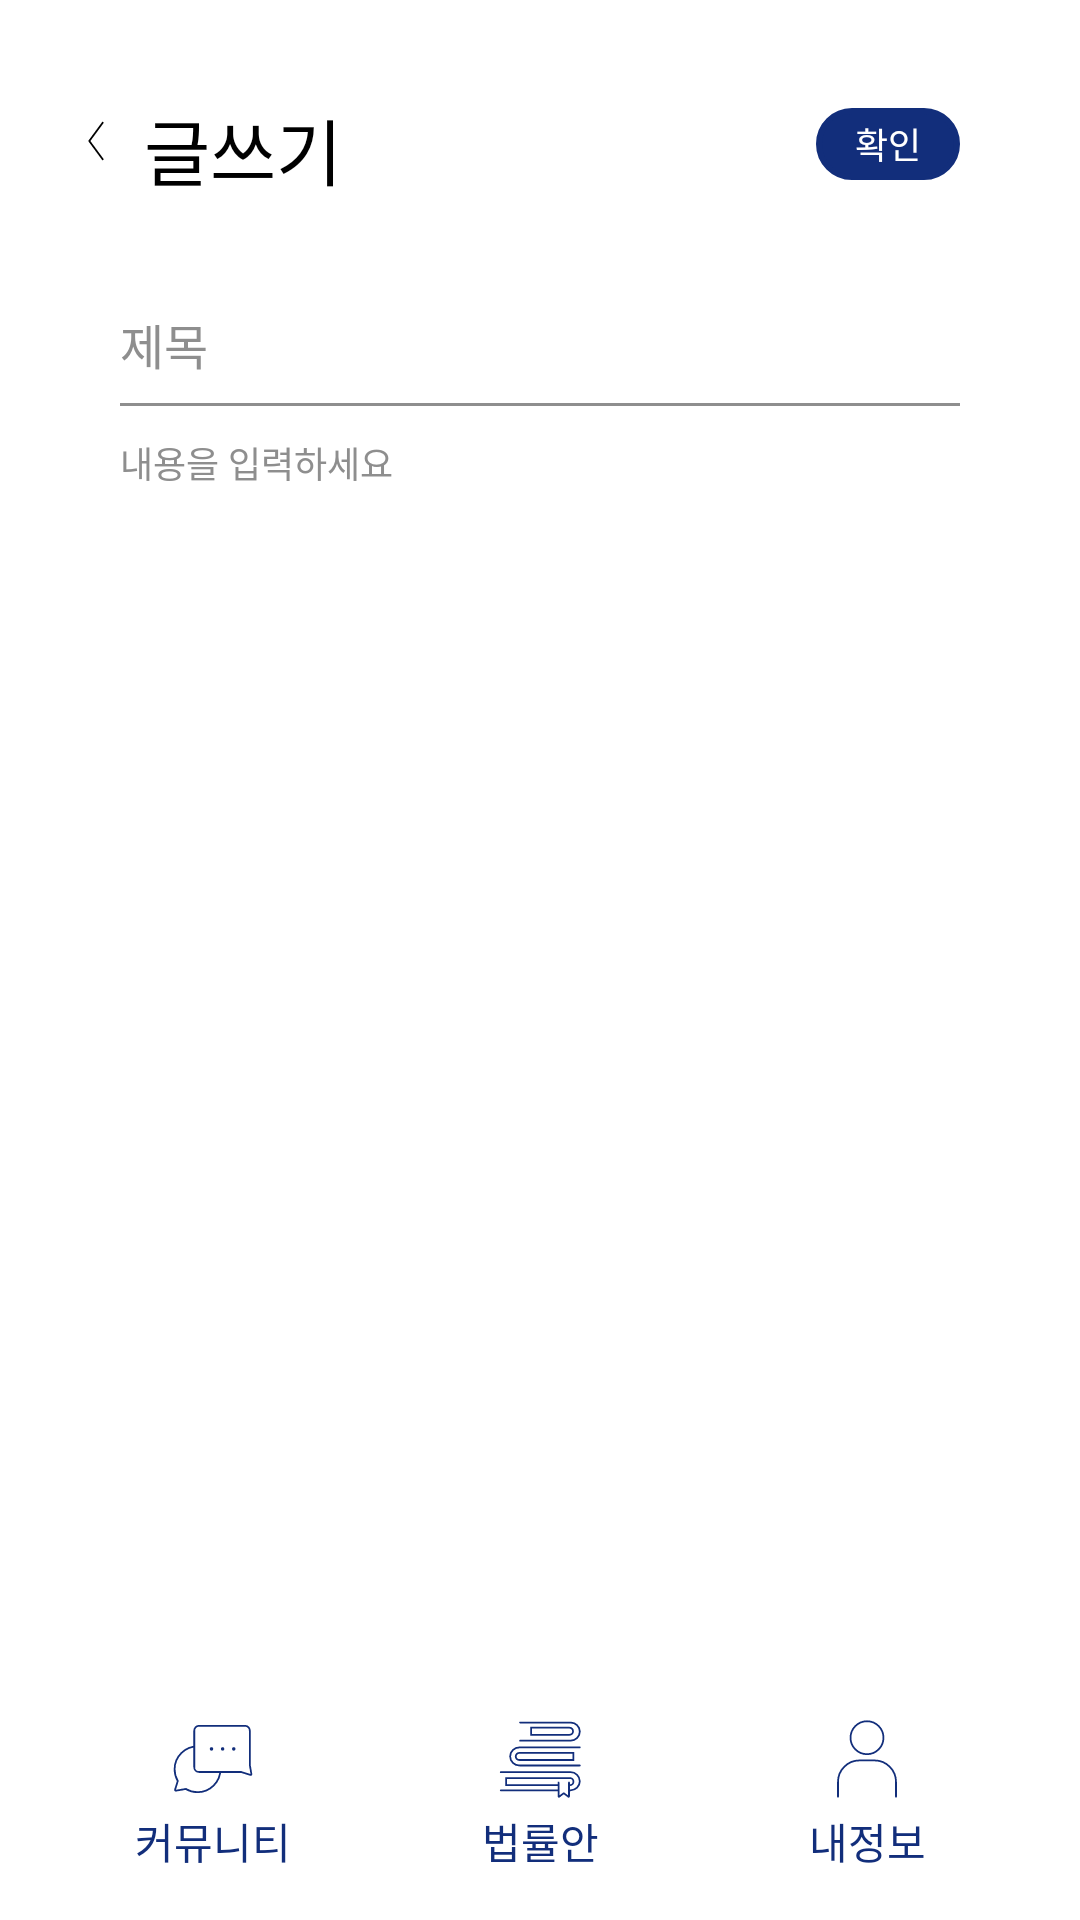

Locate icon controls on the screen. Image size 1080px x 1920px, boxes as {"x1": x1, "y1": y1, "x2": x2, "y2": y2}.
back: {"x1": 88, "y1": 121, "x2": 104, "y2": 161}
